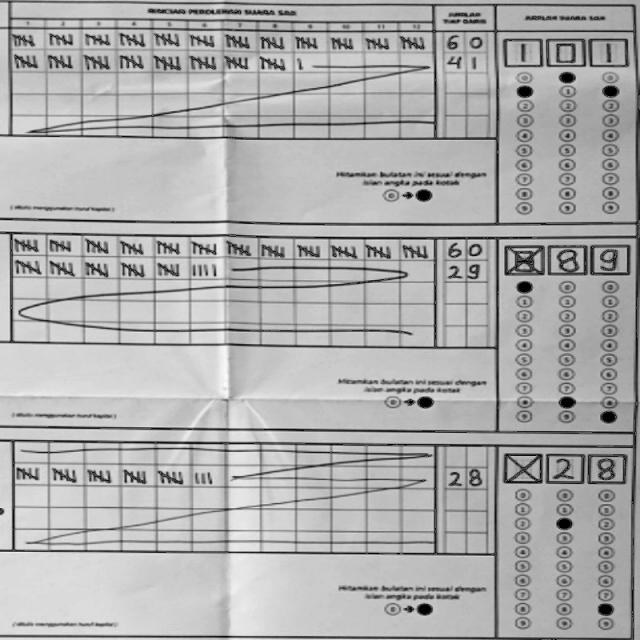Suara: (499, 32, 632, 70), (501, 239, 634, 276), (499, 448, 632, 485)
